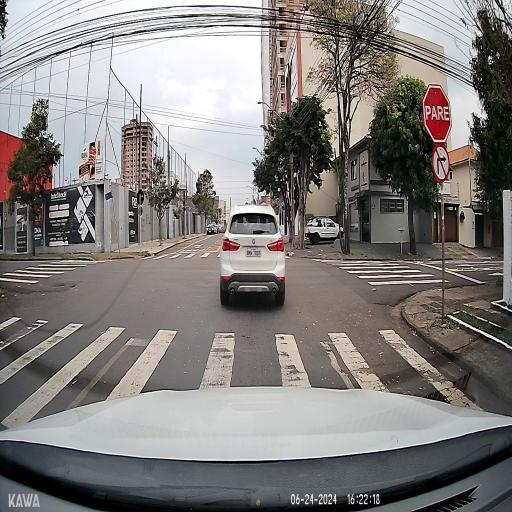R-1: (422, 82, 452, 144)
